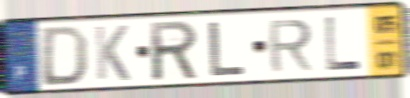D: (39, 23, 91, 88)
K: (92, 24, 132, 83)
L: (208, 20, 248, 78), (323, 15, 363, 72)
R: (147, 18, 200, 84), (266, 17, 315, 74)
